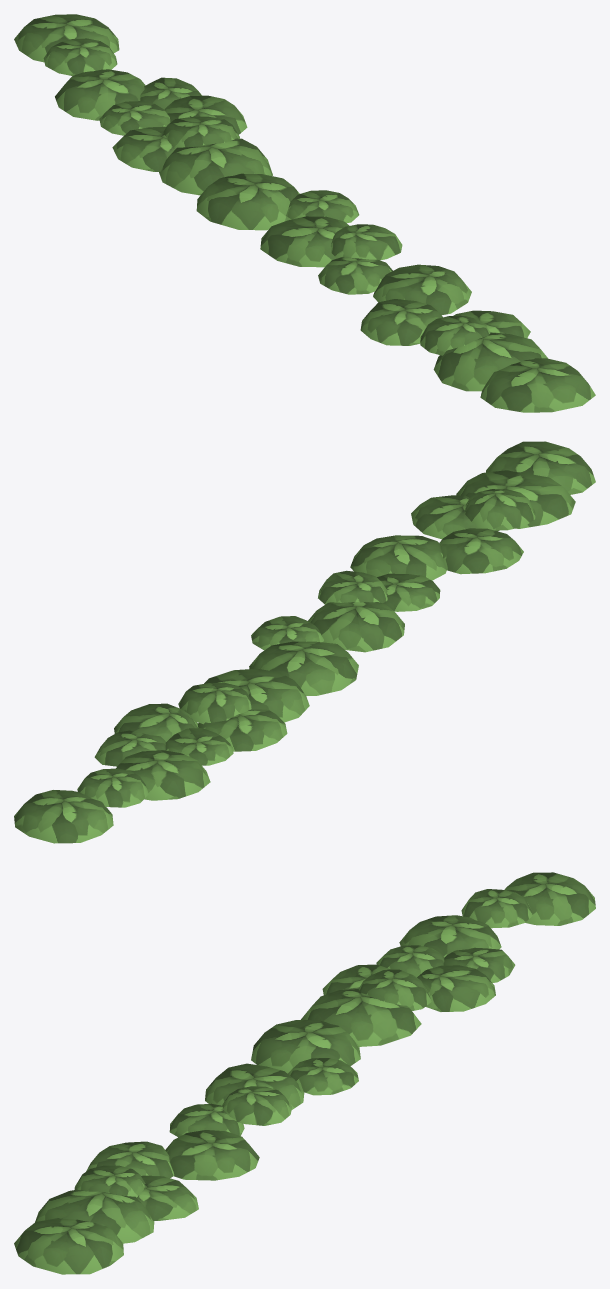
File: SM_Prop_Bush_Round_Row_01.glb
3 views of the same model, one above another, from view 1: azimuth 30°, elevation 25°; view 2: azimuth 150°, elevation 25°; view 3: azimuth 330°, elevation 25° (orthographic).
Parts seen in each view (by area): view 1: SM_Prop_Bush_Round_Row_01; view 2: SM_Prop_Bush_Round_Row_01; view 3: SM_Prop_Bush_Round_Row_01.
Part boxes in pixels (bbox=[...]): SM_Prop_Bush_Round_Row_01: bbox=[14, 14, 595, 412]; SM_Prop_Bush_Round_Row_01: bbox=[14, 441, 595, 843]; SM_Prop_Bush_Round_Row_01: bbox=[14, 872, 595, 1274].
Bounding box in the file's own units: 1.11 × 0.2188 × 7.27.
Materials: 1 (1 with a texture image).
